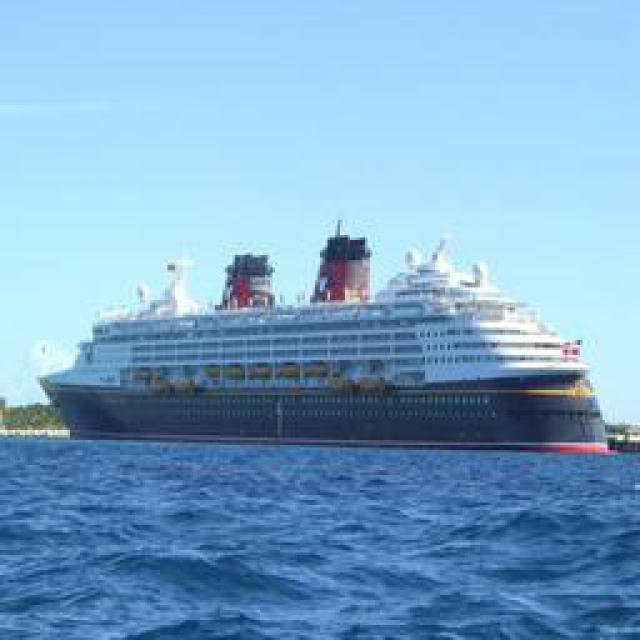Ship: (47, 220, 610, 450)
